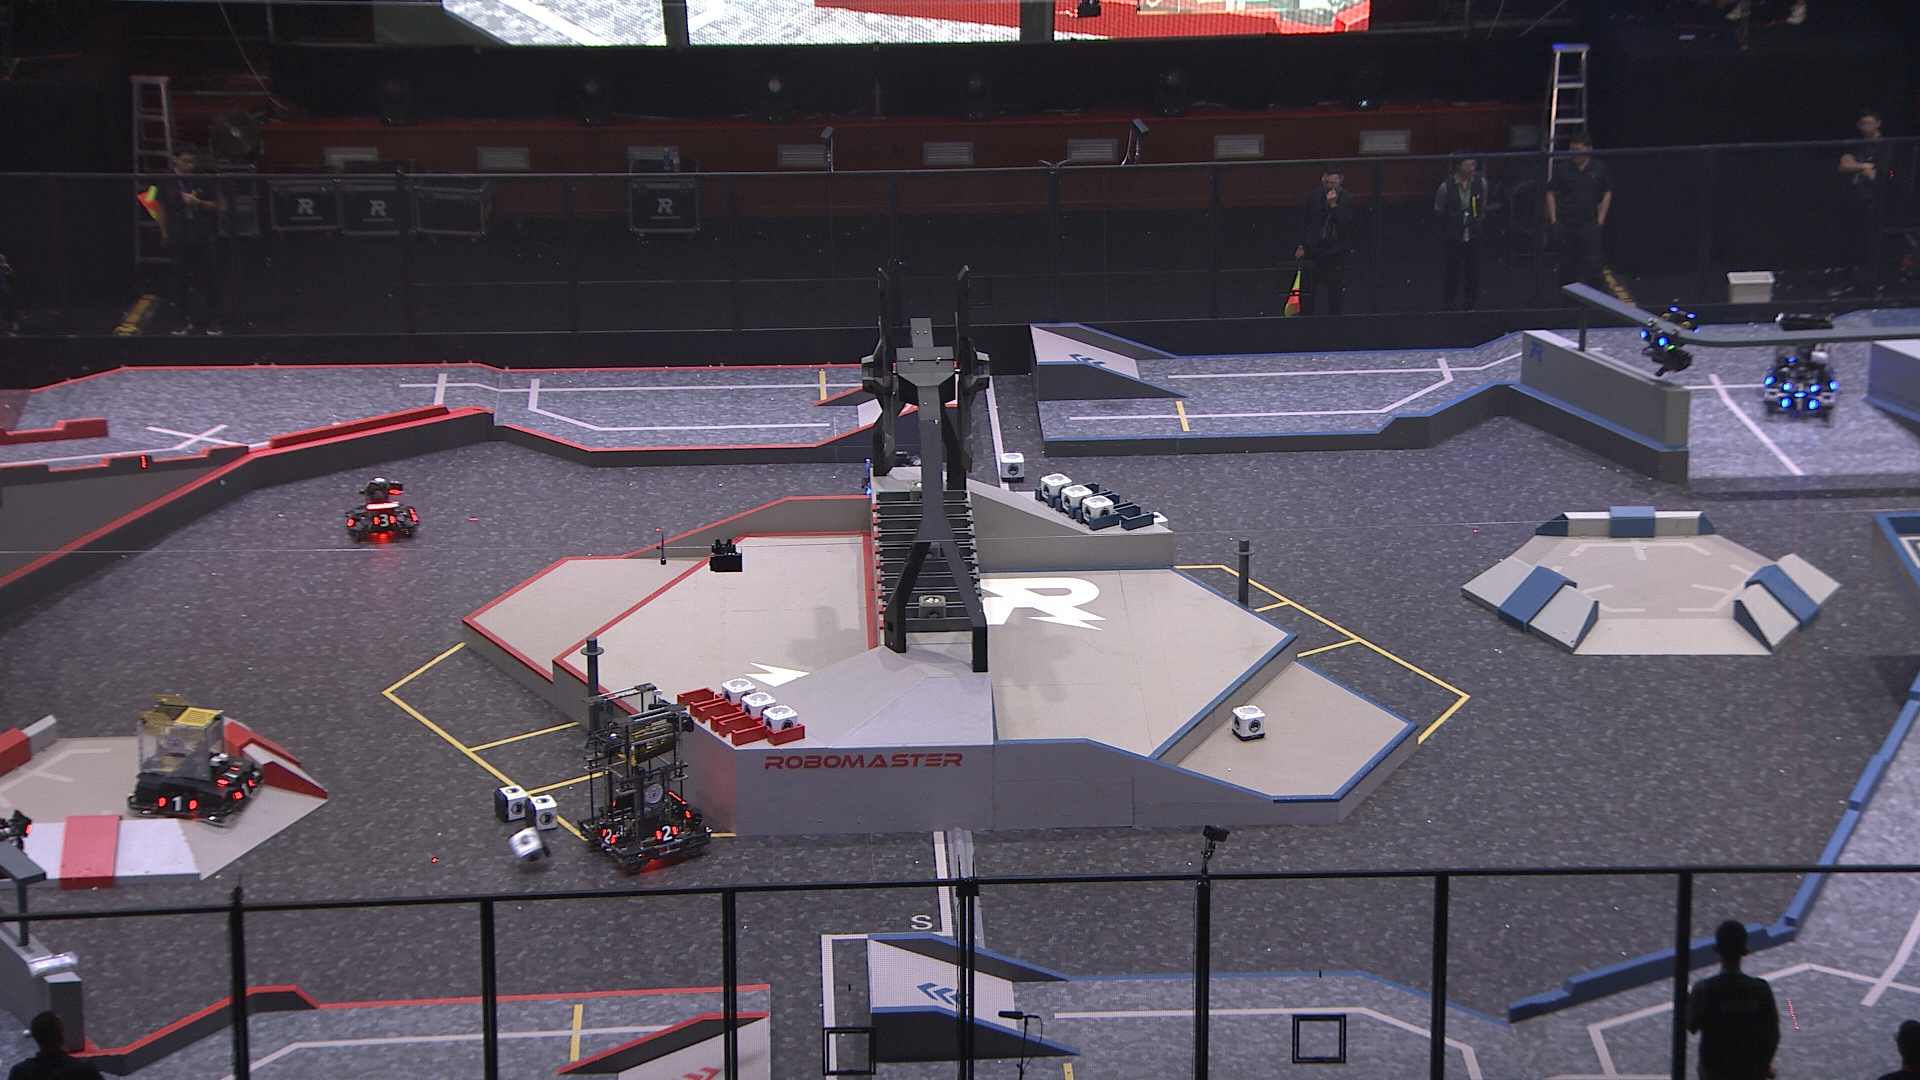armor: (157, 793, 199, 815), (225, 775, 258, 802), (211, 764, 243, 789), (1636, 327, 1667, 349), (1779, 394, 1818, 411), (1782, 380, 1821, 396), (654, 822, 680, 844), (1760, 361, 1778, 389), (596, 825, 617, 847), (371, 512, 396, 529)
car: (578, 678, 712, 872), (120, 688, 269, 829), (1756, 335, 1840, 415), (855, 450, 949, 520), (342, 476, 419, 541)
watcher: (1633, 295, 1702, 382)
